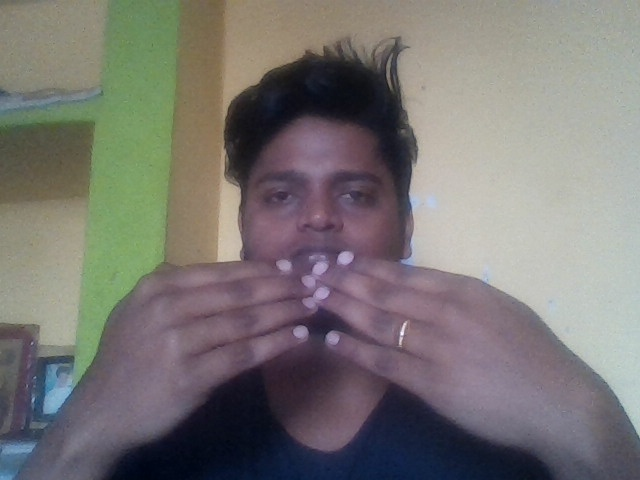thanks: (72, 240, 609, 460)
